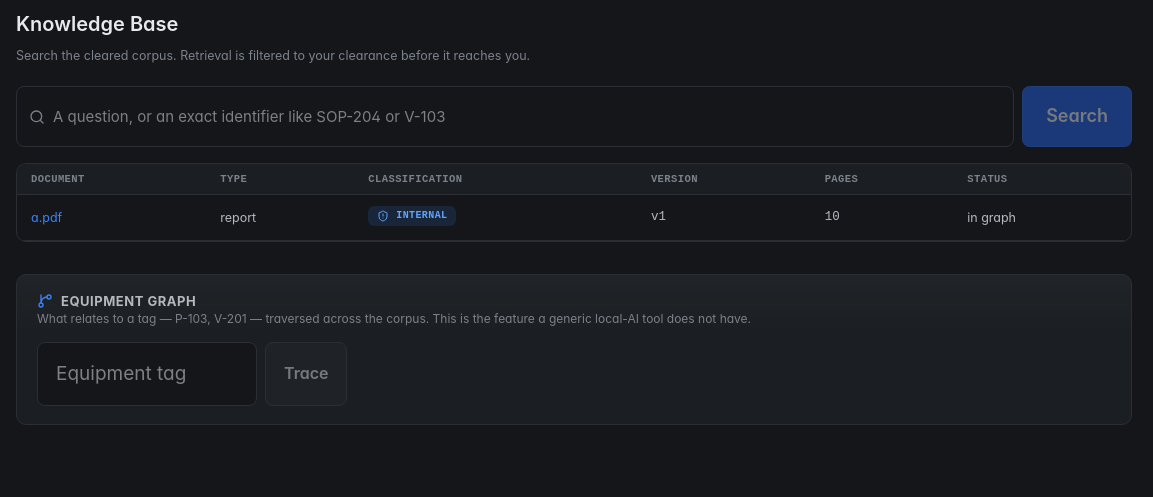
it: the Knowledge Base empty states › distinguishes 'withheld by clearance' without revealing what
Type "secret" into the field with placeholder "A question, or an exact identifier like SOP-204 or V-103".
click(527, 117); type("secret")  # box x1=53 y1=91 x2=1001 y2=142
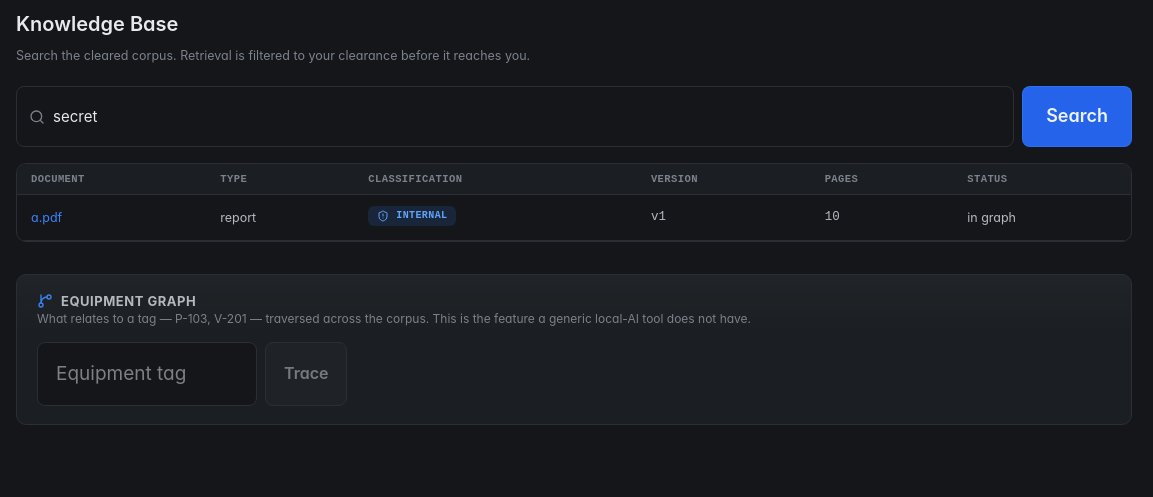
Click the button "Search".
click(1077, 117)  # box x1=1022 y1=86 x2=1132 y2=147
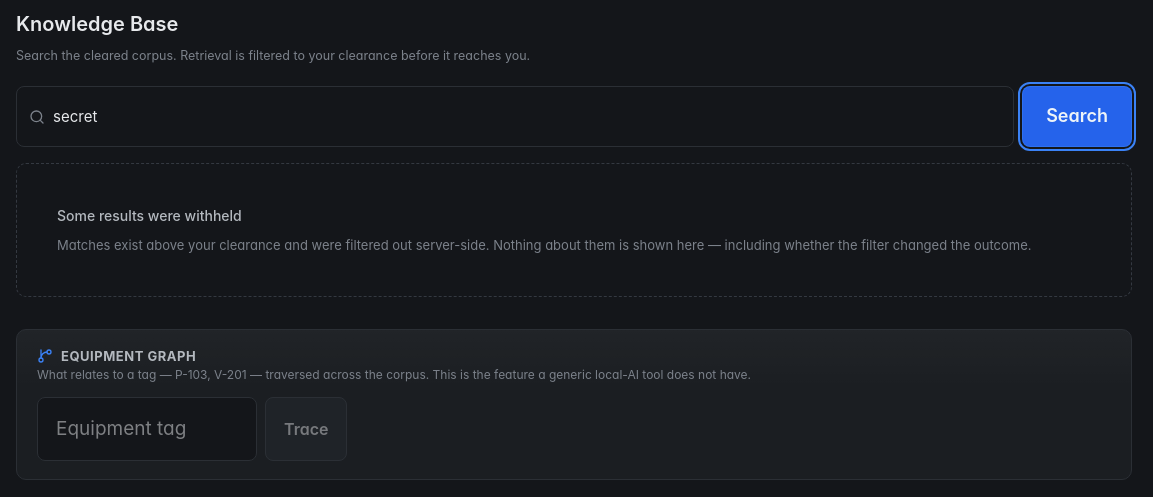
Expected: the text "Some results were withheld" is shown, x1=57 y1=207 x2=242 y2=224
